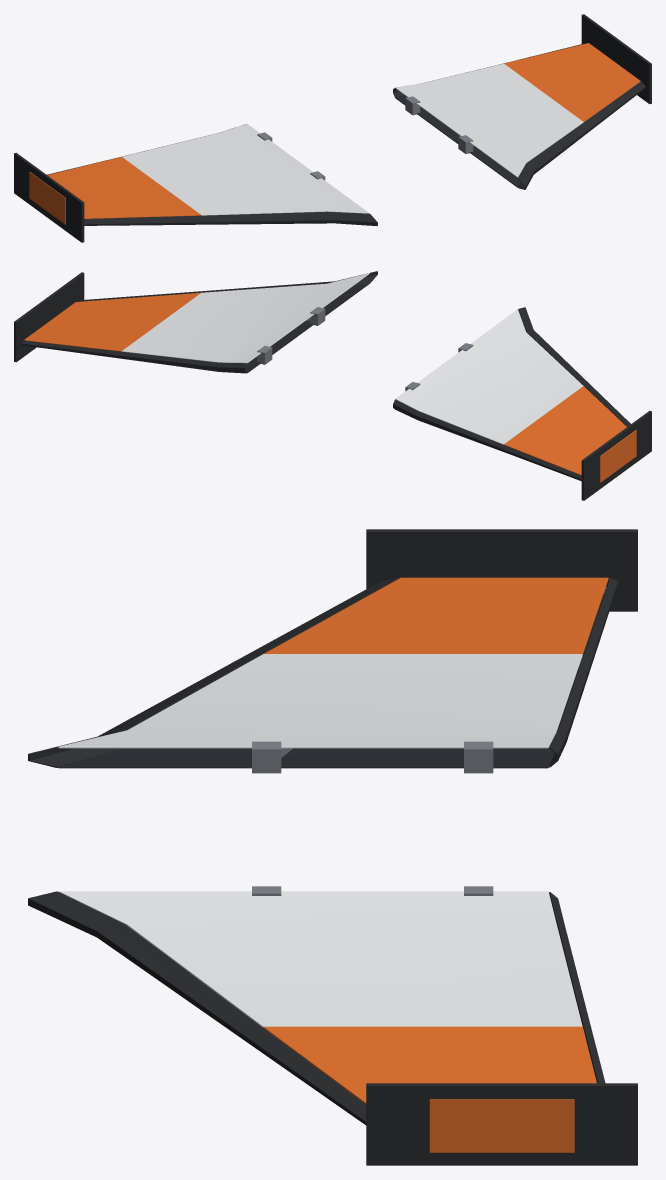
The model's file is nomad_wing_longspan.fbx.
3 views of the same model, one above another, from view 1: azimuth 30°, elevation 25°; view 2: azimuth 150°, elevation 25°; view 3: azimuth 270°, elevation 25° (orthographic). The views are drawn at different scales.
Parts seen in each view (by area): view 1: Wing_Top_L, Wing_Top_R, Wing_Longspan_Extra_L, Wing_LE_L, Wing_Longspan_Extra_R, Wing_LE_R, Wing_Bottom_R, Wing_Structure_R; view 2: Wing_Top_L, Wing_Top_R, Wing_Longspan_Extra_L, Wing_Longspan_Extra_R, Wing_TE_R, Wing_TE_L, Wing_LE_L, Wing_Bottom_R, Wing_LE_R, Wing_Structure_R; view 3: Wing_Top_R, Wing_Top_L, Wing_Longspan_Extra_R, Wing_Longspan_Extra_L, Wing_LE_R, Wing_Bottom_L, Wing_LE_L, Wing_TE_L, Wing_Structure_L, Wing_TE_R.
Part boxes in pixels (x1,y1,x2,y2): Wing_Top_L: (47, 124, 369, 218); Wing_Top_R: (395, 43, 640, 177); Wing_Longspan_Extra_L: (14, 152, 84, 242); Wing_LE_L: (84, 211, 377, 225); Wing_Longspan_Extra_R: (581, 14, 651, 104); Wing_LE_R: (518, 81, 645, 189); Wing_Bottom_R: (395, 96, 522, 187); Wing_Structure_R: (405, 96, 525, 168); Wing_Top_L: (395, 309, 626, 475); Wing_Top_R: (24, 273, 369, 363); Wing_Longspan_Extra_L: (581, 410, 651, 500); Wing_Longspan_Extra_R: (14, 272, 84, 362); Wing_TE_R: (21, 340, 246, 373); Wing_TE_L: (393, 399, 581, 481); Wing_LE_L: (518, 307, 630, 426); Wing_Bottom_R: (245, 283, 369, 373); Wing_LE_R: (77, 271, 377, 301); Wing_Structure_R: (256, 307, 325, 364); Wing_Top_R: (58, 891, 596, 1104); Wing_Top_L: (58, 577, 608, 748); Wing_Longspan_Extra_R: (366, 1083, 637, 1165); Wing_Longspan_Extra_L: (366, 529, 637, 611); Wing_LE_R: (28, 891, 366, 1125); Wing_Bottom_L: (58, 594, 604, 768); Wing_LE_L: (28, 578, 398, 767); Wing_TE_L: (549, 578, 617, 767); Wing_Structure_L: (252, 587, 606, 773); Wing_TE_R: (549, 892, 605, 1083).
Size of the model in its own units: 448 by 30 by 207.
